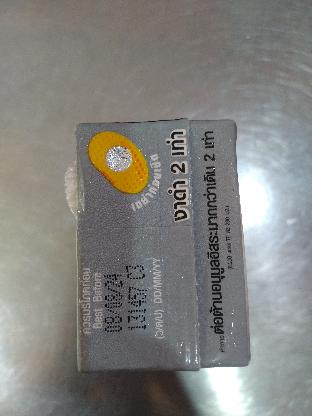Others: (62, 103, 272, 383)
